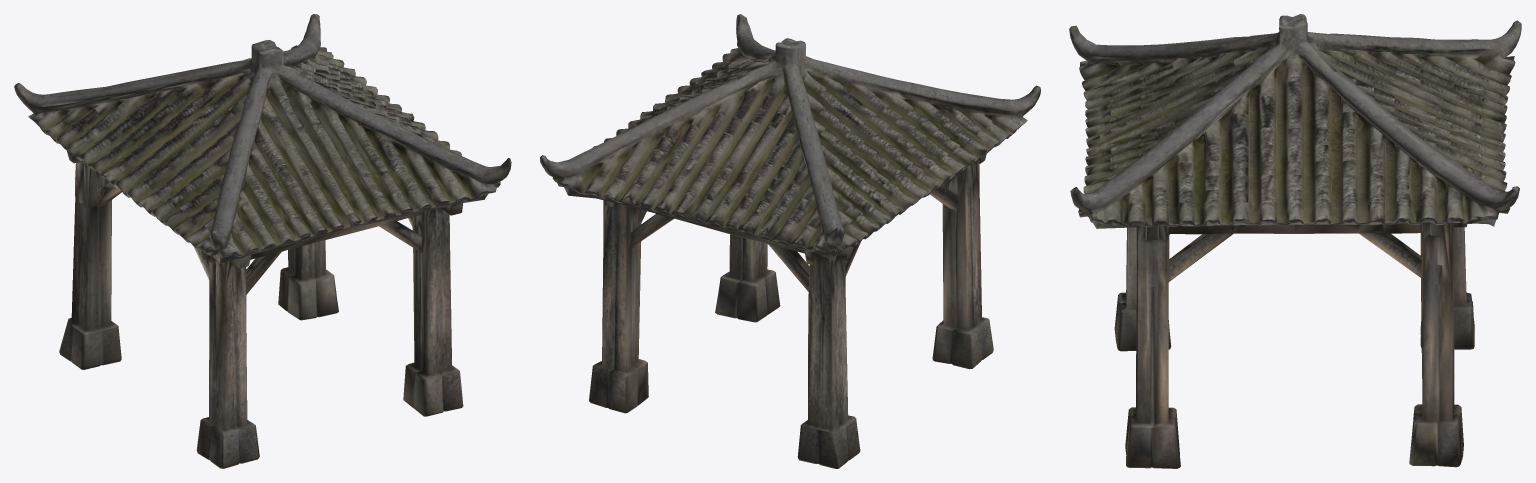
The model's file is kf-pavilion.glb.
3 renders of one model, left to right at view 1: azimuth 30°, elevation 25°; view 2: azimuth 150°, elevation 25°; view 3: azimuth 270°, elevation 25°, orthographic. The views are drawn at different scales.
Visible parts, largest first — view 1: Supplied kf-pavilion; view 2: Supplied kf-pavilion; view 3: Supplied kf-pavilion.
Boxes of the visible parts, <box> form: Supplied kf-pavilion: <box>14,14,511,468</box>; Supplied kf-pavilion: <box>540,14,1040,468</box>; Supplied kf-pavilion: <box>1069,14,1521,468</box>.
Size of the model in its own units: 0.8747 by 0.9293 by 1.
Materials: 1 (1 with a texture image).
